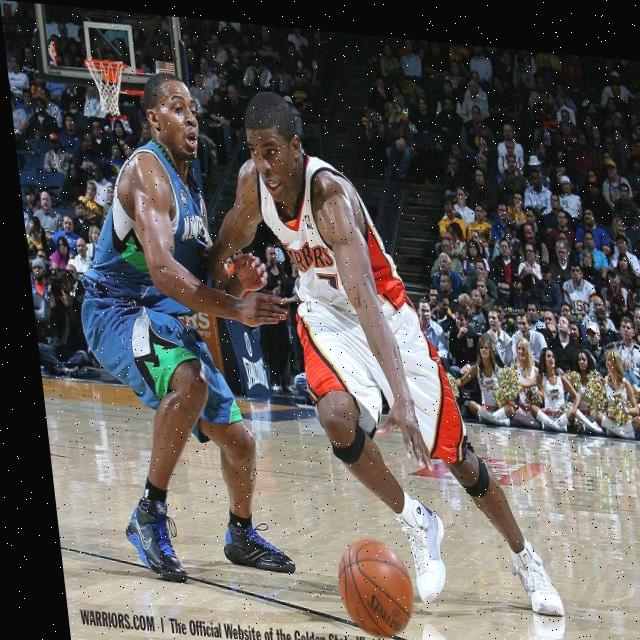basketball: (332, 538, 417, 638)
hoop: (84, 57, 130, 115)
